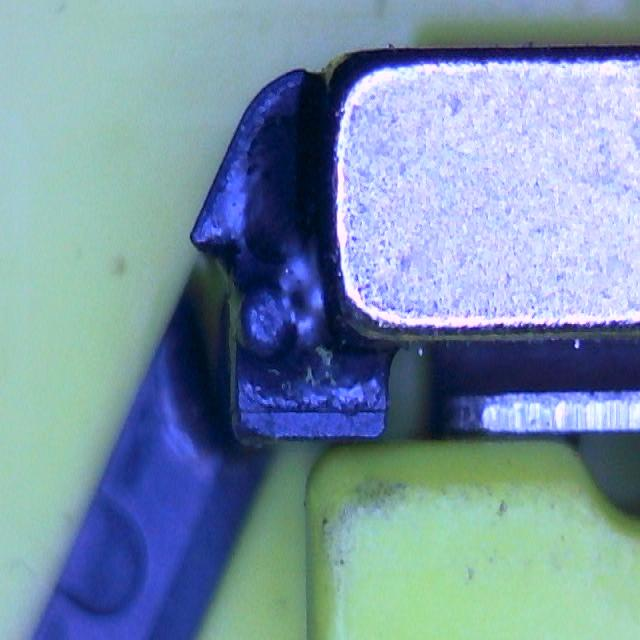over: (244, 111, 332, 353)
